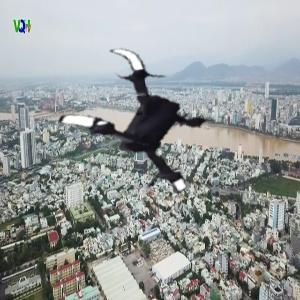drone: (58, 41, 235, 218)
